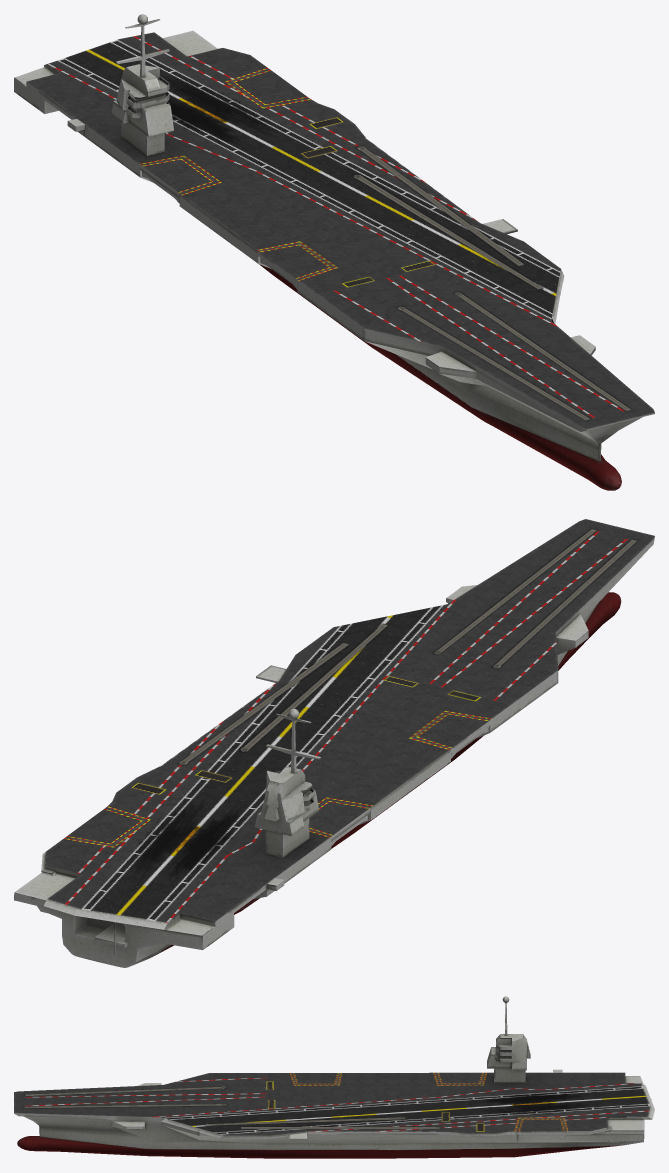
Rendered from carrier-s.glb.
The picture shows the model from 3 angles, top to bottom: view 1: azimuth 30°, elevation 25°; view 2: azimuth 150°, elevation 25°; view 3: azimuth 270°, elevation 25°; orthographic projection. The views are drawn at different scales.
Parts seen in each view (by area): view 1: Gerald Body, Elevator2, Elevator1, Elevator3; view 2: Gerald Body, Elevator1, Elevator2, Elevator3; view 3: Gerald Body, Elevator3, Elevator2, Elevator1.
Part boxes in pixels (bbox=[...]): Gerald Body: bbox=[14, 14, 654, 490]; Elevator2: bbox=[140, 157, 215, 203]; Elevator1: bbox=[258, 243, 332, 289]; Elevator3: bbox=[231, 69, 309, 106]; Gerald Body: bbox=[14, 519, 654, 967]; Elevator1: bbox=[413, 712, 490, 758]; Elevator2: bbox=[309, 799, 370, 846]; Elevator3: bbox=[65, 807, 145, 845]; Gerald Body: bbox=[14, 996, 654, 1158]; Elevator3: bbox=[517, 1118, 566, 1136]; Elevator2: bbox=[436, 1072, 484, 1084]; Elevator1: bbox=[292, 1073, 339, 1084].
Size of the model in its own units: 101 by 89.99 by 401.
1 material, 1 textured.
